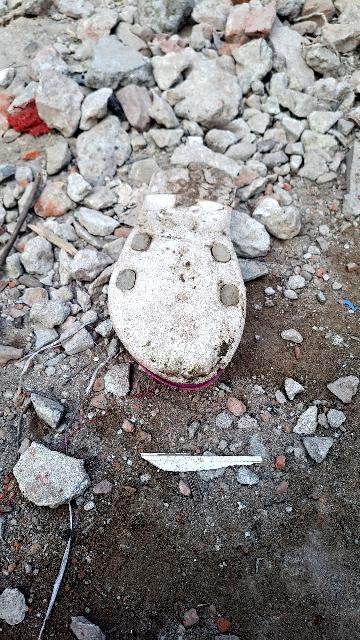sandal: (92, 124, 263, 382)
